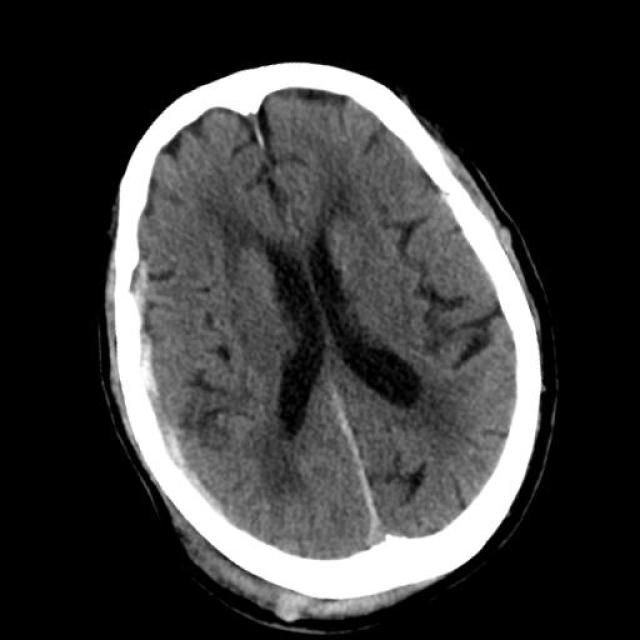Subdural: (84, 264, 232, 546)
